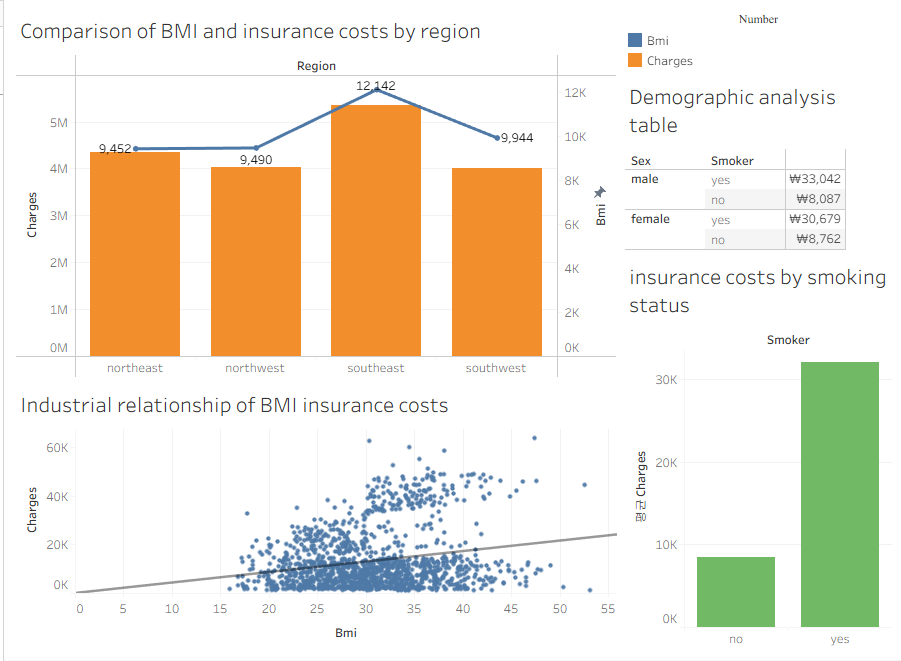

The page's visual inventory and layout, read from the dashboard file:
{"tool":"tableau","page":{"name":"대시보드 1","canvas":[1000,1000],"units":"permille","ordinal":0},"visuals":[{"type":"worksheet","title":"Comparison of BMI and insurance costs by region","mark":"Bar","rows":["charges","bmi"],"cols":["region"],"box":[8.9,12.1,676.7,566.8]},{"type":"legend","title":"Comparison of BMI and insurance costs by region","param":"[federated.1fmand1167l0p20zkj07y06cf7nm].[:Measure Names]","box":[685.6,12.1,305.6,100]},{"type":"worksheet","title":"Demographic analysis table","mark":"Text","rows":["sex","smoker"],"box":[685.6,112.1,305.6,272.7]},{"type":"worksheet","title":"insurance costs by smoking status","mark":"Bar","rows":["charges"],"cols":["smoker"],"box":[685.6,384.9,305.6,603]},{"type":"worksheet","title":"Industrial relationship of BMI insurance costs","mark":"Automatic","rows":["charges"],"cols":["bmi"],"box":[8.9,578.9,676.7,409]}]}

Visuals, with their boxes on the dashboard's canvas, which has no fixed pixel size, in thousandths of its width and height (x1, y1, x2, y2). These are canvas units, not pixel positions in the 901x661 screenshot, which may show the page scaled, cropped or inside an application window:
"Comparison of BMI and insurance costs by region" worksheet (Bar marks): 9/12/686/579
"Comparison of BMI and insurance costs by region" legend: 686/12/991/112
"Demographic analysis table" worksheet (Text marks): 686/112/991/385
"insurance costs by smoking status" worksheet (Bar marks): 686/385/991/988
"Industrial relationship of BMI insurance costs" worksheet: 9/579/686/988
